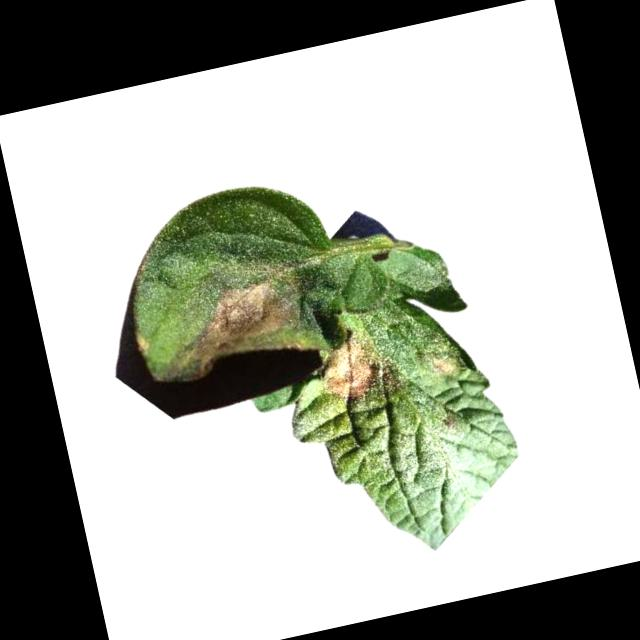Late_blight: (145, 266, 307, 385), (311, 316, 403, 411), (430, 346, 461, 380)
